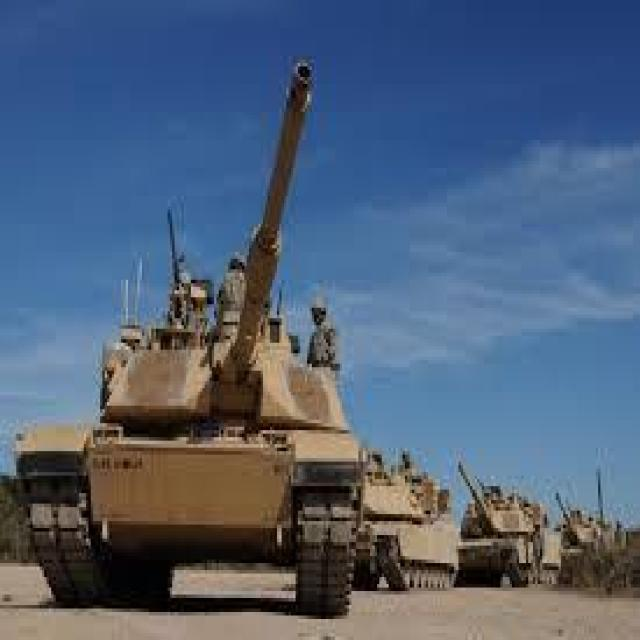Tanks: (39, 51, 352, 610), (362, 435, 450, 614), (459, 451, 538, 609), (559, 467, 626, 600)
